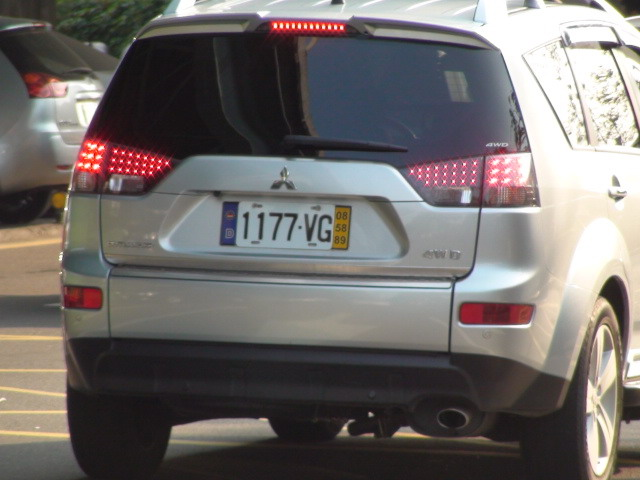plate: (238, 196, 336, 254)
